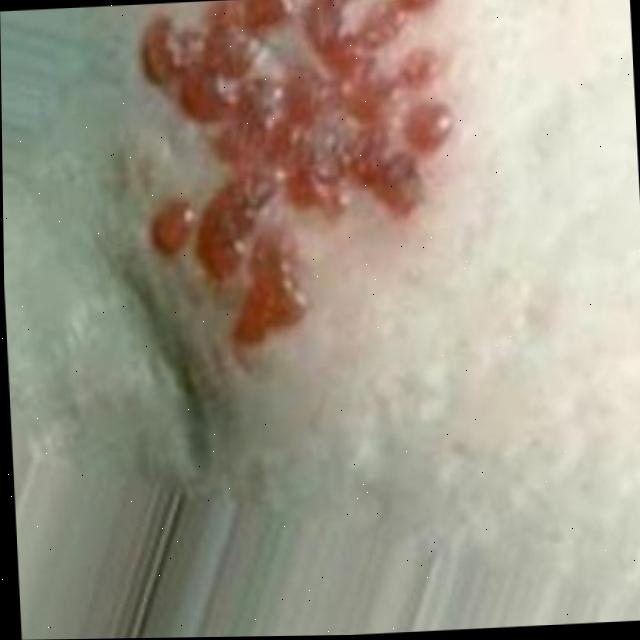Shingles: (137, 0, 460, 353)
